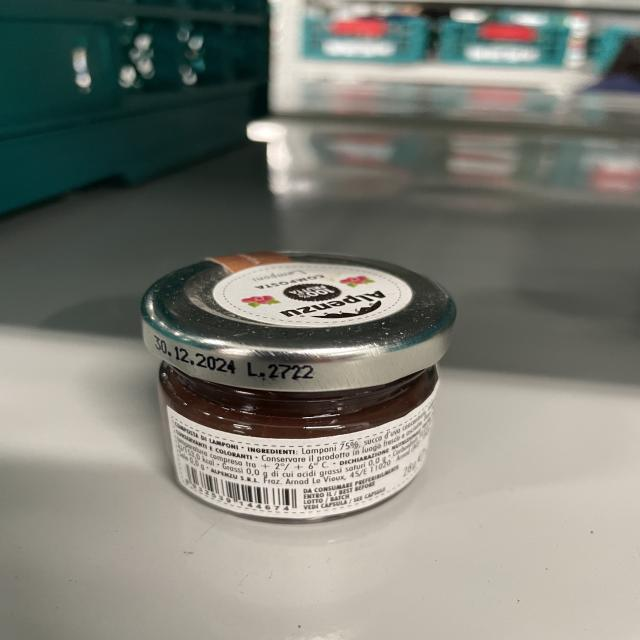object_name: (146, 261, 457, 524)
